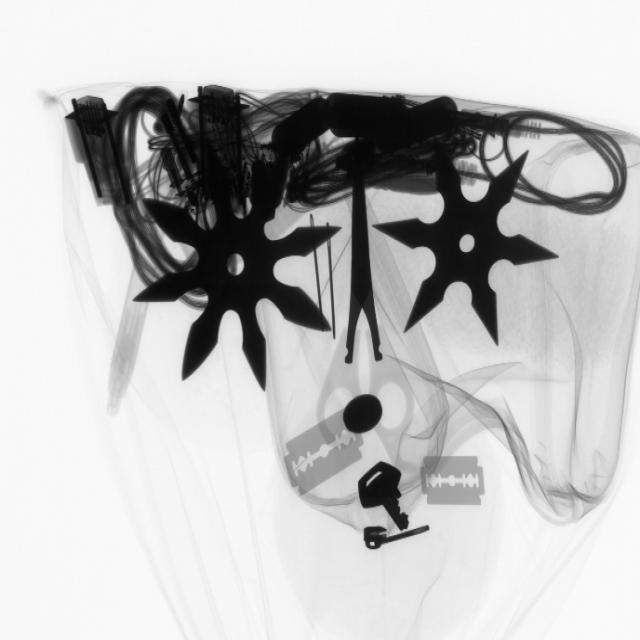BLADE: (279, 408, 370, 504), (413, 444, 492, 519)
SHURIKEN: (137, 151, 335, 392), (380, 145, 554, 350)
